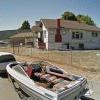Boat: (5, 52, 91, 100)
